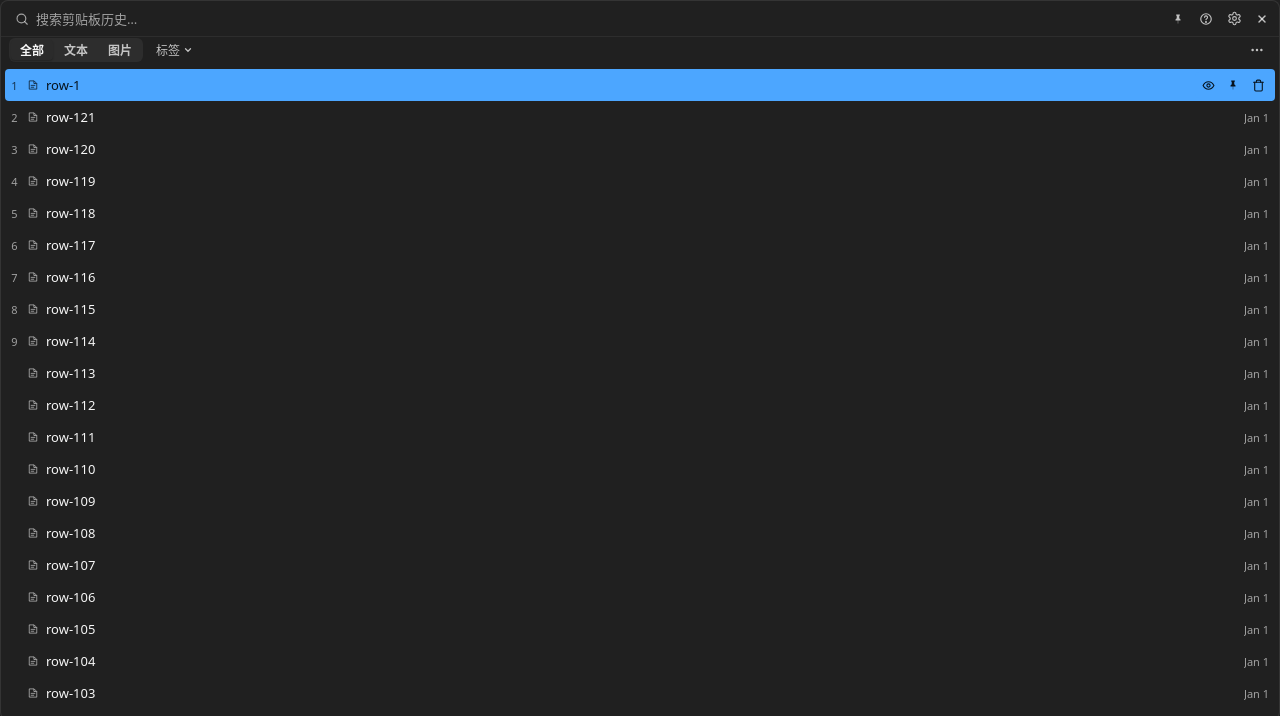
Test: live history list › refreshes the page boundary when an old pinned row moves outside the loaded list
Click the button titled "取消置顶 (P)": (1233,85) [1221,73,1245,97]
(page scrolled)
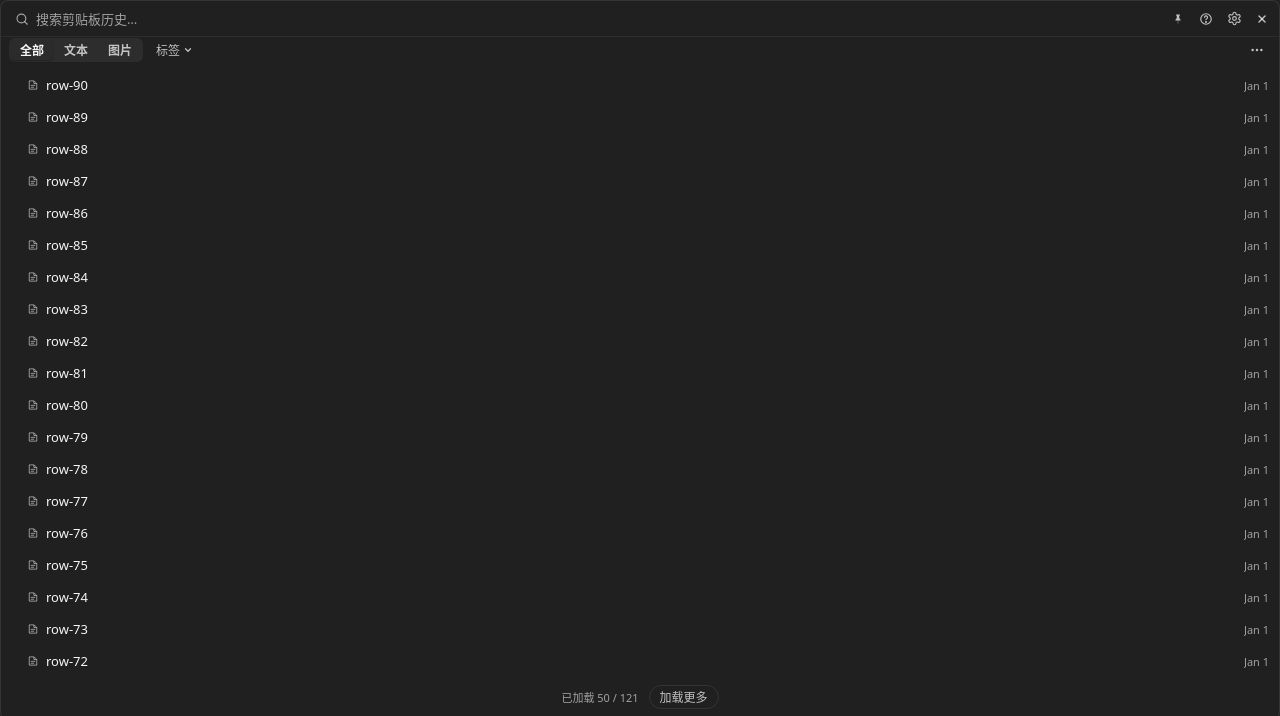
Result: the text "row-72" is shown at [46,652,88,670]
Result: the option "row-1" is gone
Click the button "加载更多": (684,697) [649,685,719,709]
(page scrolled)
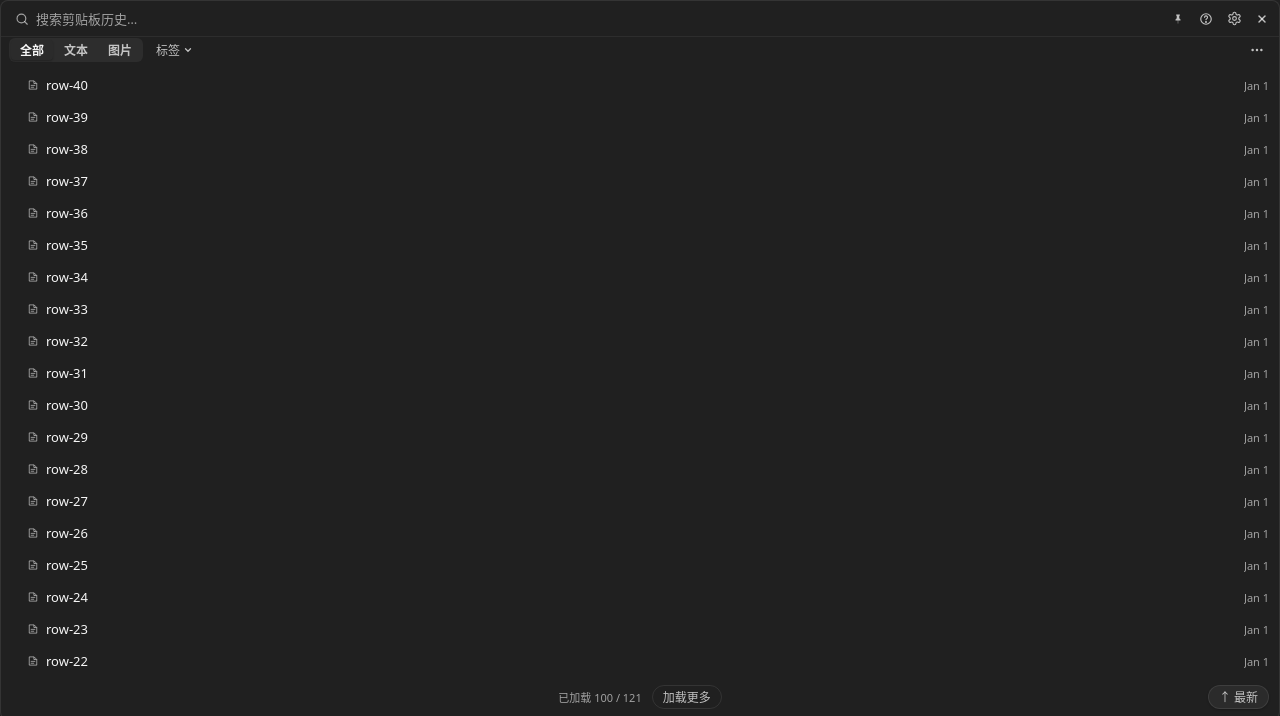
Result: the text "row-22" is shown at [46,652,88,670]
Result: the text "已加载 100 / 121" is shown at [558,689,642,705]
